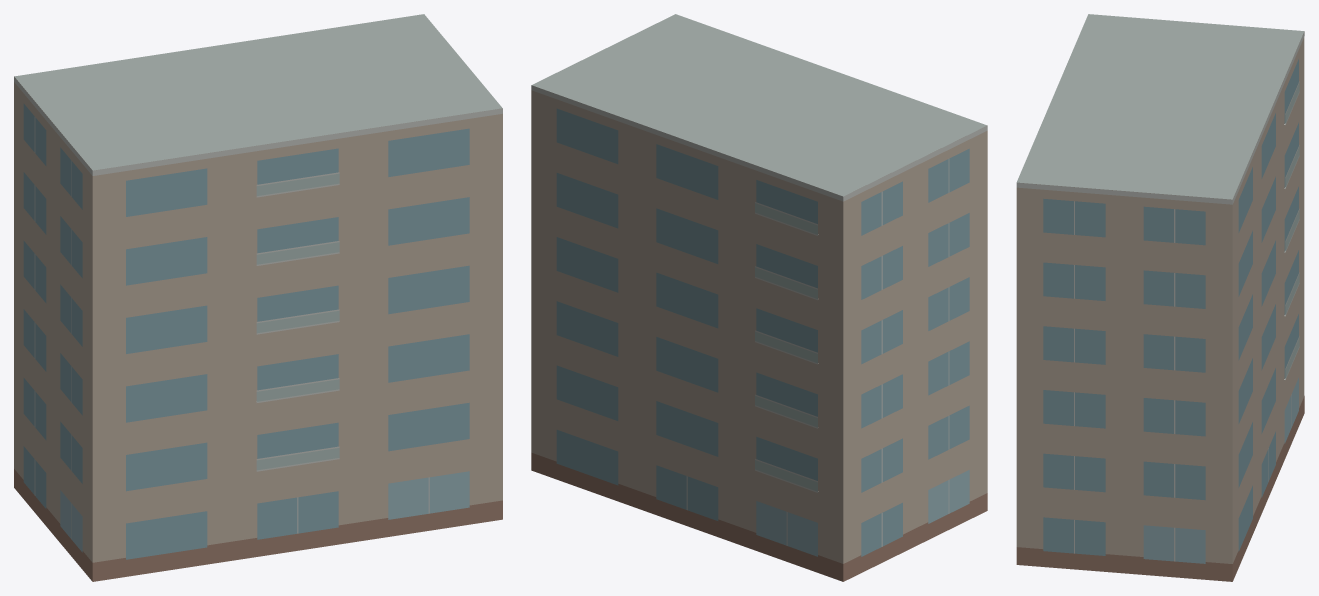
The model's file is survey-upis-32635512.glb.
3 views of the same model, side by side, from view 1: azimuth 30°, elevation 25°; view 2: azimuth 150°, elevation 25°; view 3: azimuth 270°, elevation 25° (orthographic). The views are drawn at different scales.
Parts seen in each view (by area): view 1: survey-upis-32635512.tmp; view 2: survey-upis-32635512.tmp; view 3: survey-upis-32635512.tmp.
Boxes of the visible parts, bbox=[...] form: survey-upis-32635512.tmp: bbox=[14, 14, 502, 581]; survey-upis-32635512.tmp: bbox=[531, 14, 987, 581]; survey-upis-32635512.tmp: bbox=[1016, 14, 1304, 581].
Bounding box in the file's own units: 19.06 × 18.3 × 12.5.
